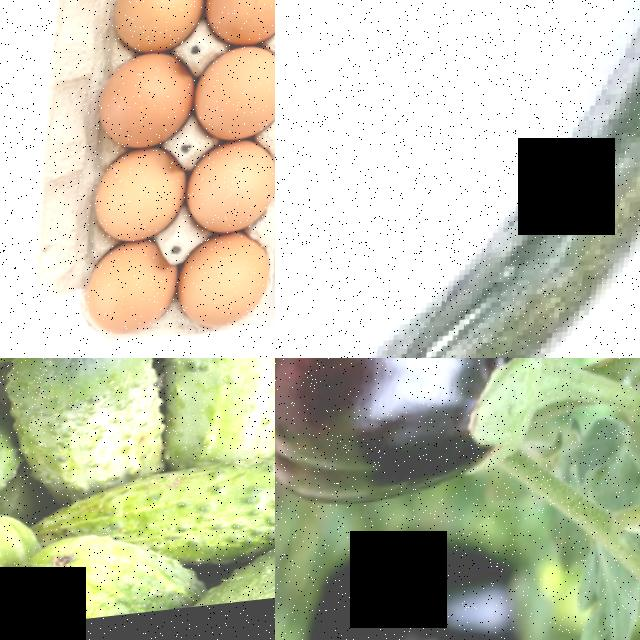cucumber: (275, 0, 640, 358), (0, 358, 175, 498), (105, 456, 275, 570), (23, 535, 200, 633), (152, 358, 275, 485)
egg_: (98, 53, 202, 157), (95, 146, 194, 251), (179, 233, 275, 339), (88, 242, 184, 343), (189, 143, 275, 244), (194, 48, 275, 151), (111, 0, 209, 60), (205, 0, 275, 57)
eggplant: (275, 358, 563, 524)
